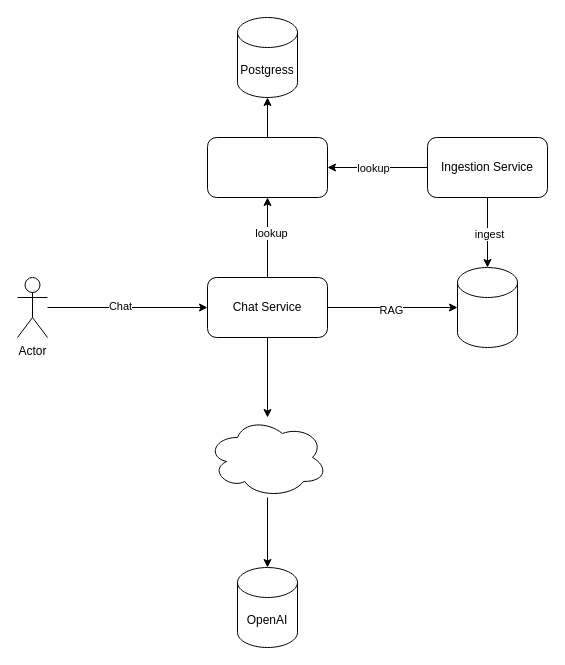
Some shapes in this 565 by 665 pixel diagram are drawn without their labels. Here are the shapes that lost their labels. From the top down, the centre of each, then its label:
At (x=267, y=167): "Tenant Service".
At (x=487, y=307): "Redis".
